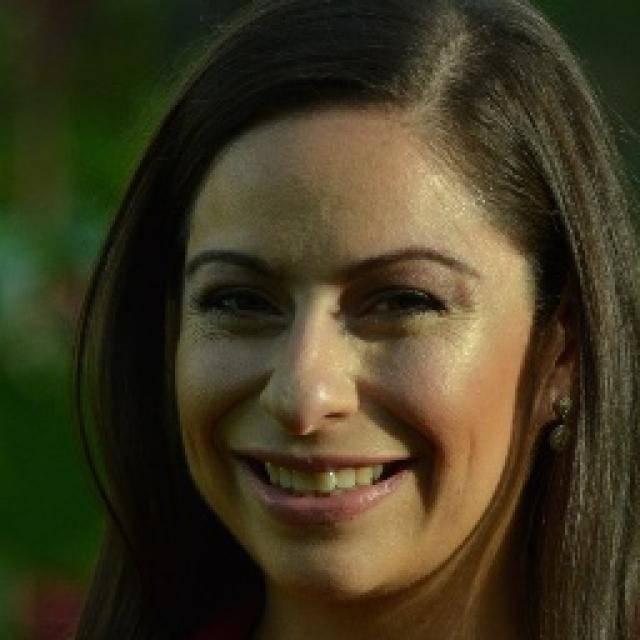earlobe: (542, 363, 578, 424)
eye: (355, 287, 440, 322), (200, 285, 280, 320)
nose: (249, 405, 366, 475)
